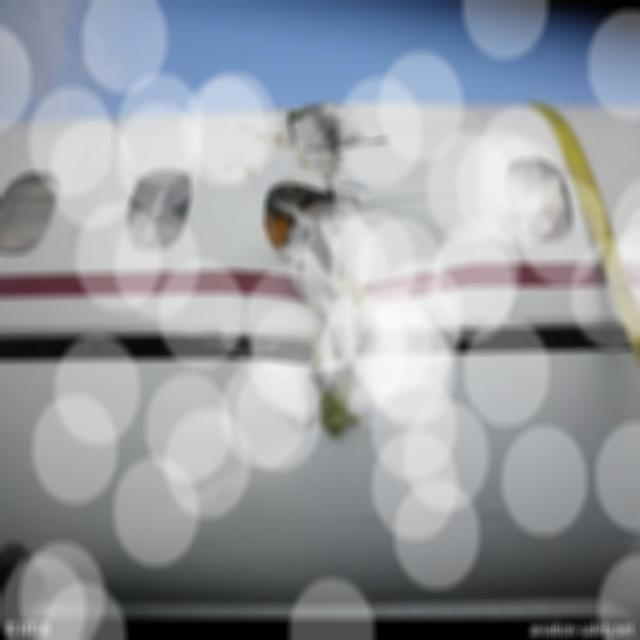crack: (283, 99, 390, 440)
